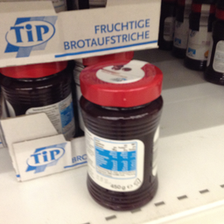jam: (81, 59, 164, 213), (4, 66, 76, 137)
